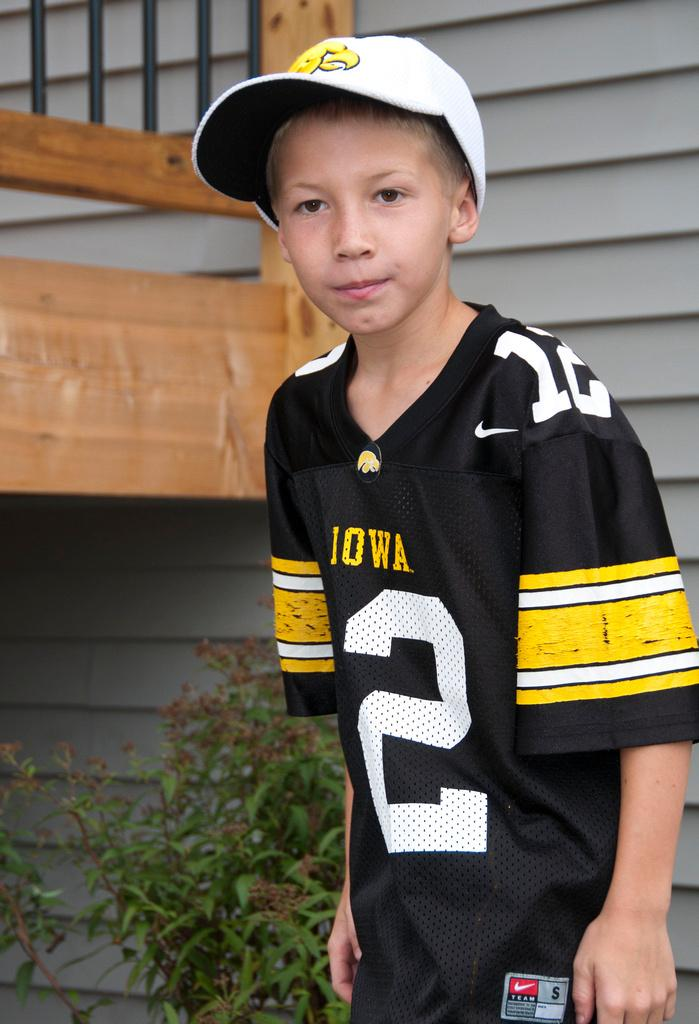Hat: (194, 36, 483, 234)
